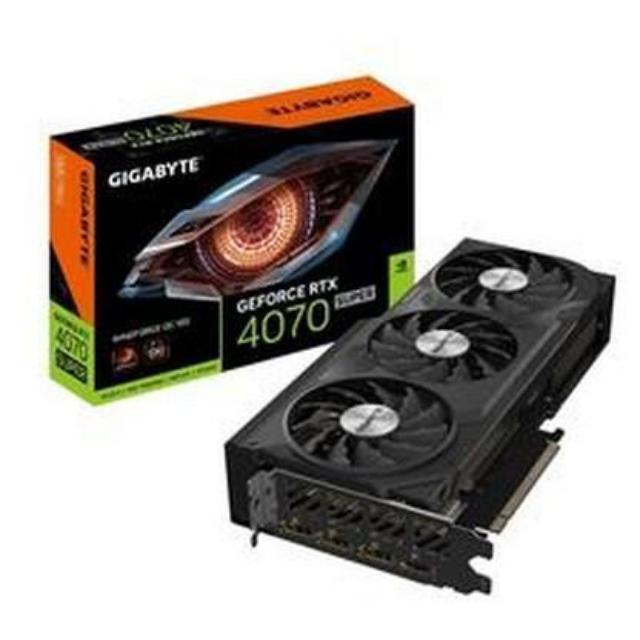GPU: (232, 236, 618, 542)
